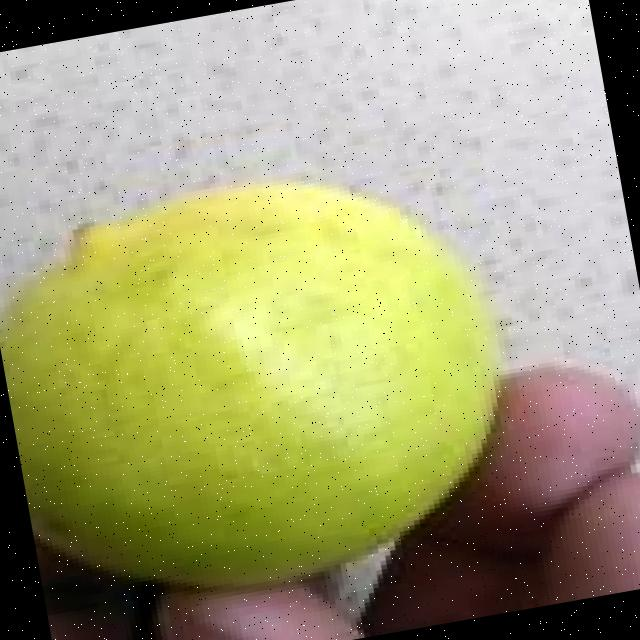Good_Lime-10-21-days: (0, 186, 509, 596)
